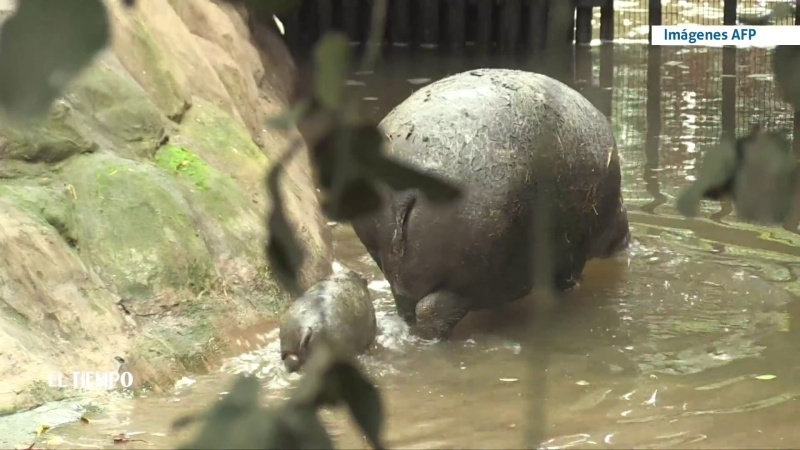hipopotamo: (344, 57, 650, 343), (264, 256, 395, 380)
